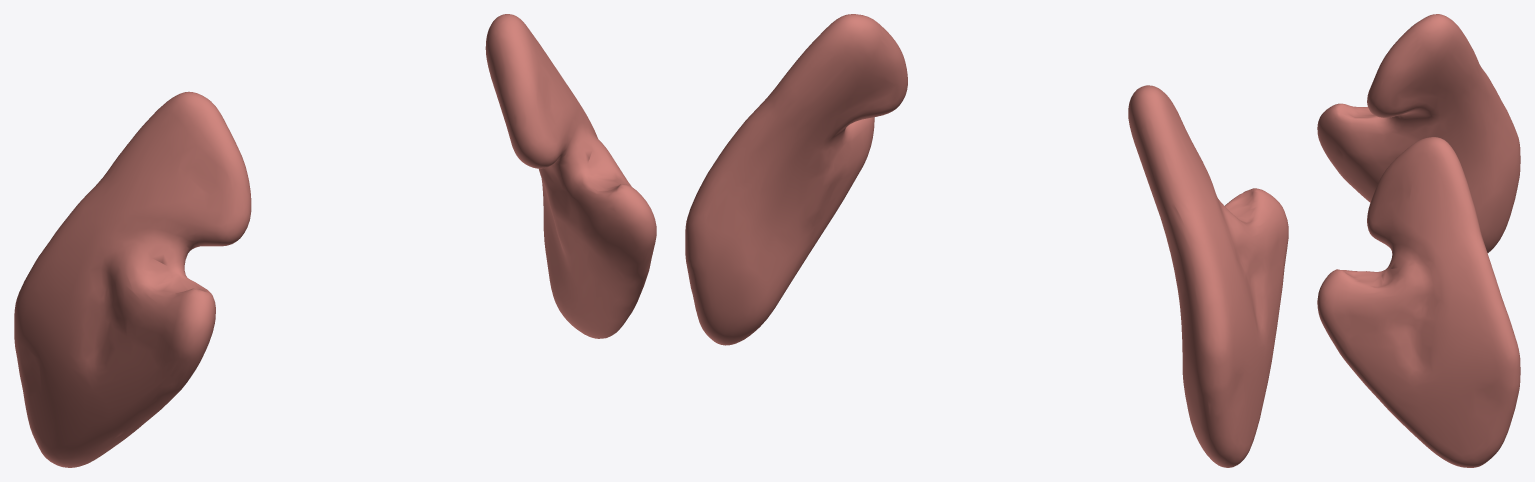
Rendered from medial_pterygoid_lod1.glb.
3 views of the same model, side by side, from view 1: azimuth 30°, elevation 25°; view 2: azimuth 150°, elevation 25°; view 3: azimuth 270°, elevation 25° (orthographic). The views are drawn at different scales.
Parts seen in each view (by area): view 1: medial_pterygoid_R_lod1, medial_pterygoid_L_lod1; view 2: medial_pterygoid_L_lod1, medial_pterygoid_R_lod1; view 3: medial_pterygoid_L_lod1, medial_pterygoid_R_lod1.
Part boxes in pixels (left/top/right/bottom): medial_pterygoid_R_lod1: left=14, top=91, right=251, bottom=467; medial_pterygoid_L_lod1: left=485, top=14, right=656, bottom=338; medial_pterygoid_L_lod1: left=685, top=14, right=907, bottom=345; medial_pterygoid_R_lod1: left=1128, top=85, right=1288, bottom=467; medial_pterygoid_L_lod1: left=1317, top=137, right=1520, bottom=467; medial_pterygoid_R_lod1: left=1317, top=14, right=1520, bottom=252.
Size of the model in its own units: 0.07 by 0.0416 by 0.0268.
